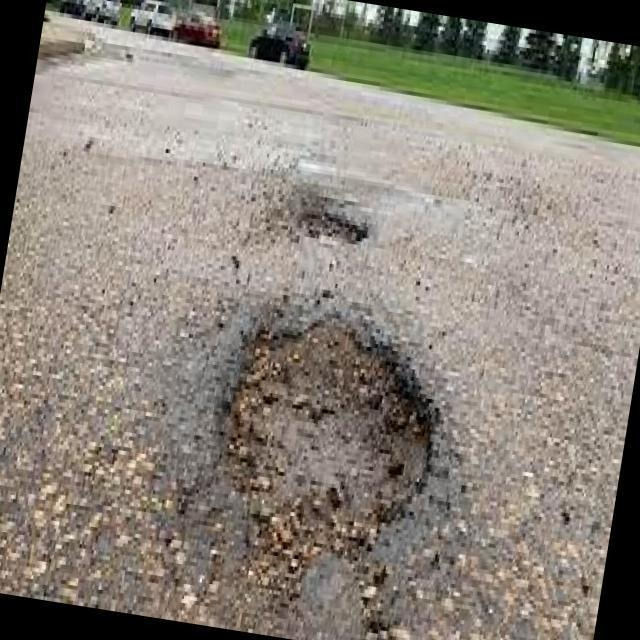Pothole: (230, 312, 434, 607)
